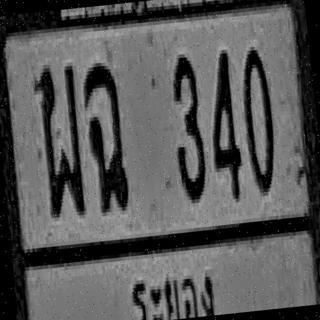A09: (80, 59, 130, 211)
A28: (35, 62, 88, 218)
N00: (237, 44, 279, 192)
N03: (167, 53, 209, 201)
N04: (203, 48, 244, 198)
P53: (127, 258, 220, 320)
